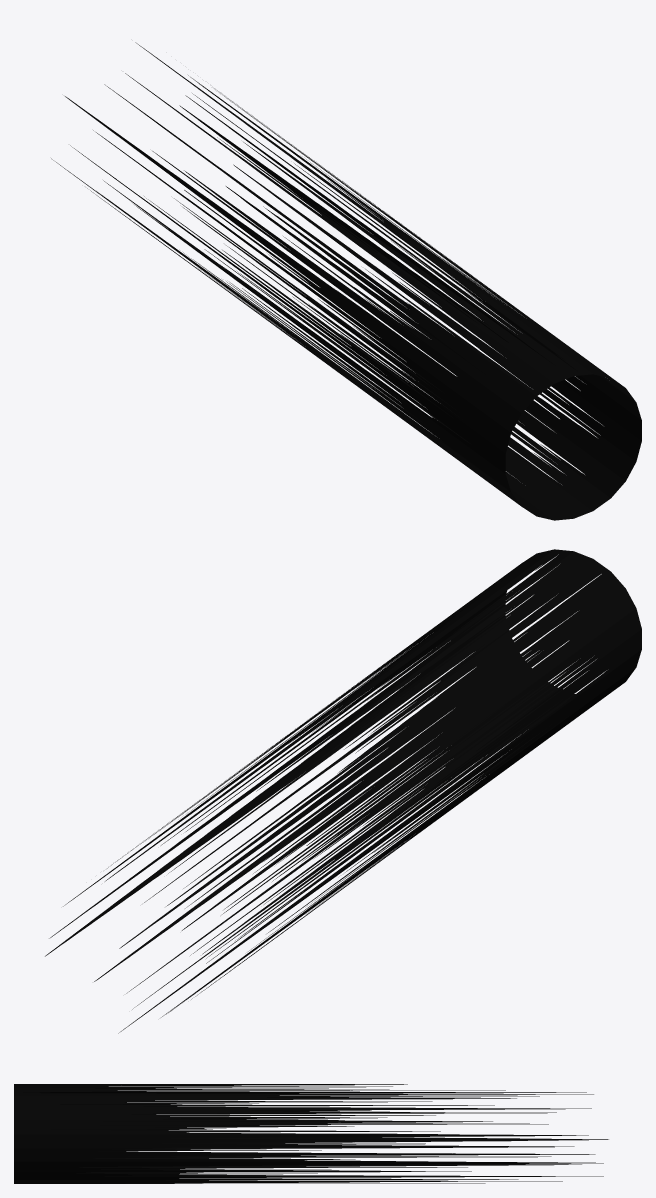
File: speedlines.fbx
3 renders of one model, top to bottom at view 1: azimuth 30°, elevation 25°; view 2: azimuth 150°, elevation 25°; view 3: azimuth 270°, elevation 25°, orthographic. The views are drawn at different scales.
Visible parts, largest first — view 1: speedlines; view 2: speedlines; view 3: speedlines.
Part boxes in pixels (x1,y1,x2,y2): speedlines: (51,42,641,520); speedlines: (45,549,641,1033); speedlines: (14,1084,608,1183).
Bounding box in the file's own units: 27.37 × 27.37 × 171.
1 material, 1 textured.
